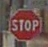stop: (9, 8, 40, 40)
